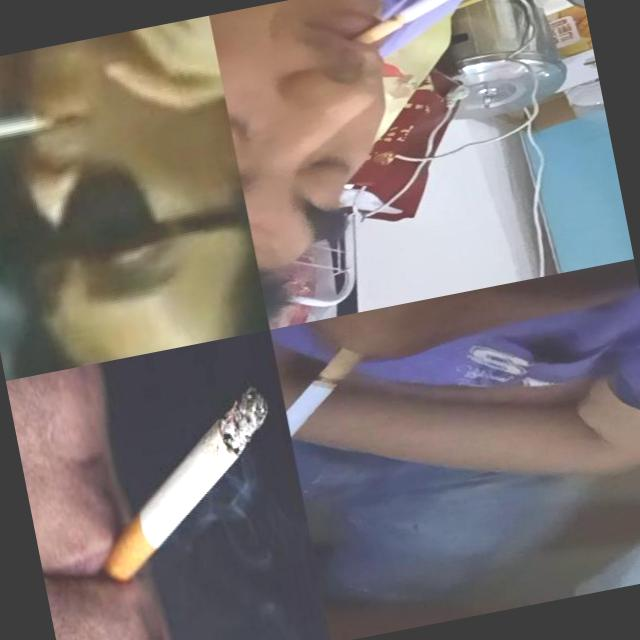smoke: (76, 382, 295, 584), (277, 344, 374, 441), (341, 0, 539, 47), (0, 104, 66, 146)
